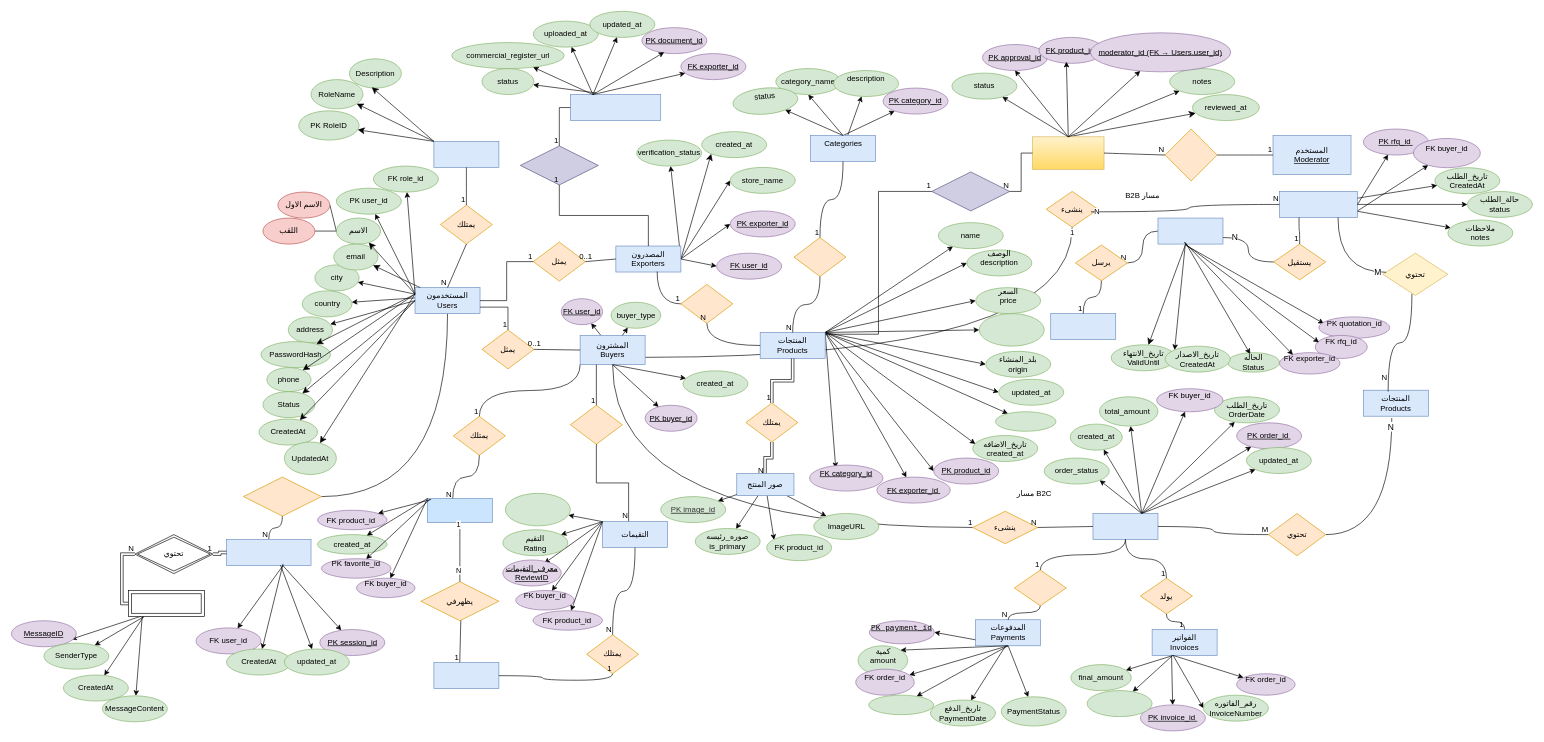
The diagram is 1544 pixels wide and 742 high, and some of its shapes have lost their labels. Each missing label, with the centre of its shape:
AIChatSessions: the point at 268,552
AIMessages: the point at 166,603
ExporterDocuments: the point at 615,107
Favorites: the point at 459,510
payment_proof: the point at 901,705
ProductApprovals: the point at 1068,152
الادوار Roles: the point at 466,154
الطلب Orders: the point at 1125,526
الكميه_المتوفره quantity: the point at 1011,329
المصدر Exporters: the point at 1083,326
المنتجات: the point at 466,675
تاريخ_التقيم CreatedAt: the point at 537,509
تاريخ_الفاتوره issue_date: the point at 1119,703
حالة_المنتج status: the point at 1025,421
طلبات_عروض_الاسعار RFQs: the point at 1318,204
عروض _الاسعار Quotations: the point at 1190,230
يبدا: the point at 282,496
يحتوي: the point at 819,257
يراجع: the point at 1190,154
يرفع: the point at 559,165
يضيف: the point at 706,303
يكتب: the point at 596,424
يُدفع: the point at 1040,587
يُراجع: the point at 970,191
